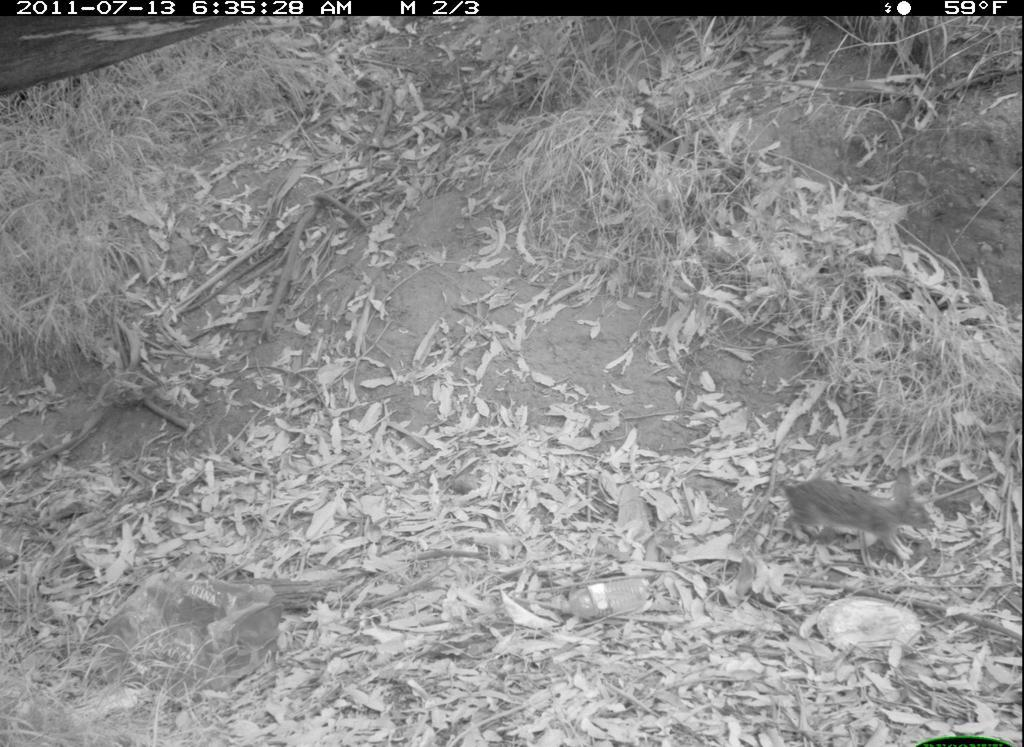rabbit: (762, 455, 963, 565)
